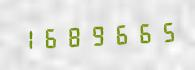eight: (63, 21, 85, 50)
five: (155, 16, 177, 45)
nine: (86, 20, 108, 49)
one: (17, 24, 39, 53)
six: (40, 22, 62, 51), (109, 19, 131, 48), (132, 18, 154, 46)
